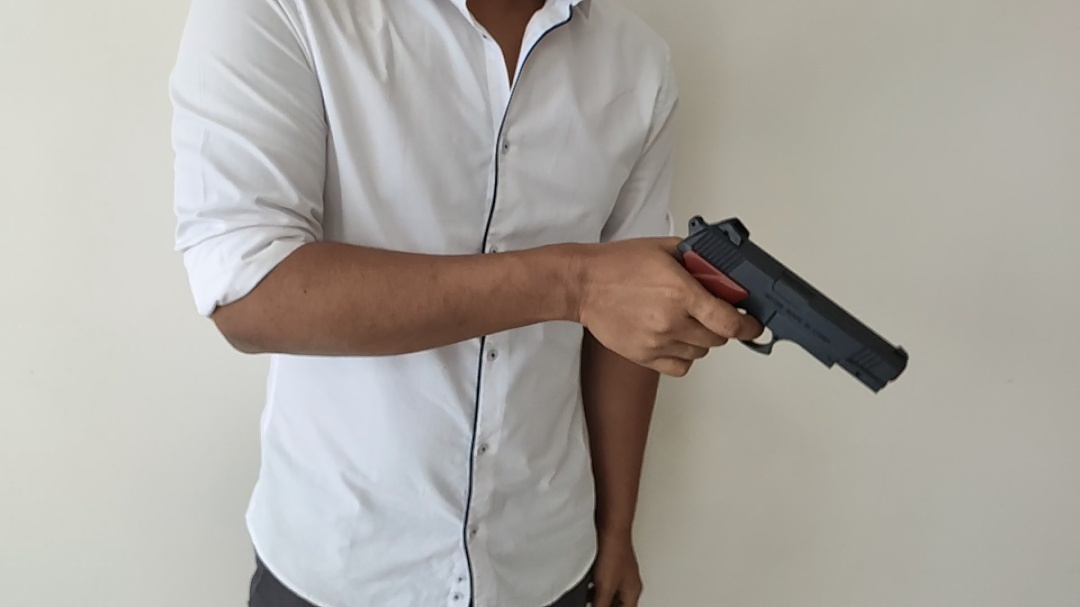gun: (395, 205, 773, 480)
